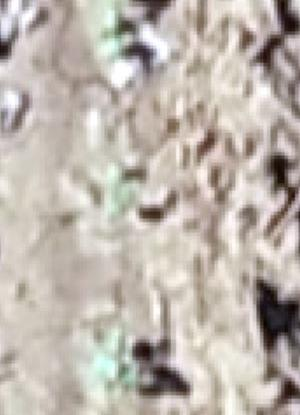cotton: (99, 5, 125, 33), (121, 366, 143, 389), (104, 32, 122, 56), (109, 337, 128, 357)
